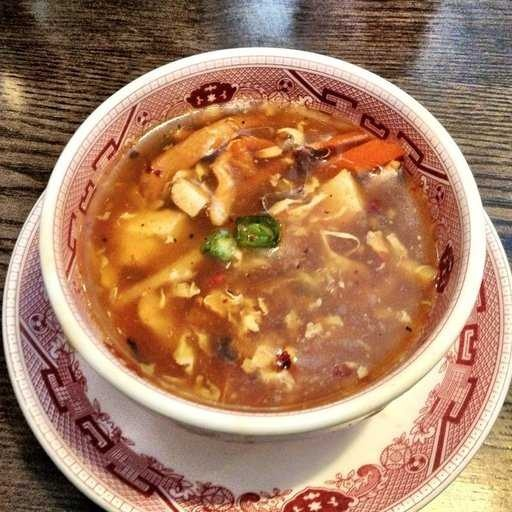soup: (96, 78, 407, 416)
